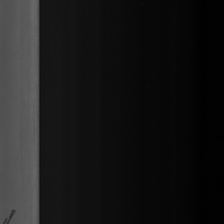oil_spot: (2, 205, 15, 224)
